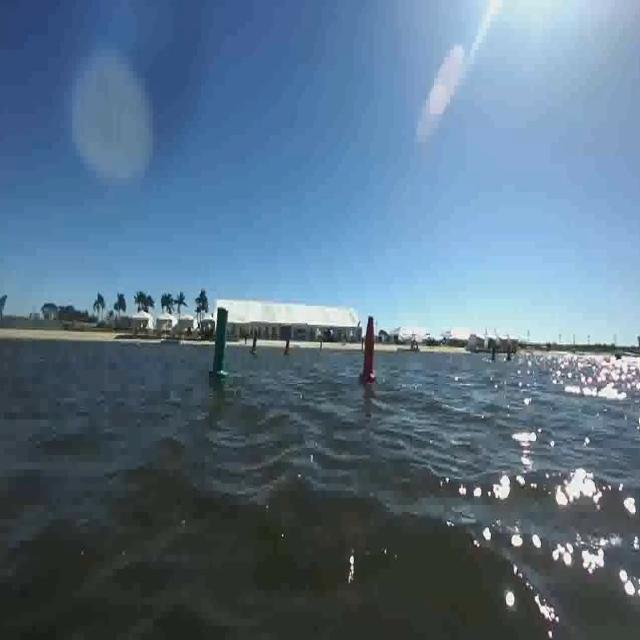green-column-buoy: (208, 305, 232, 381), (251, 332, 259, 356)
red-column-buoy: (358, 314, 377, 384)
